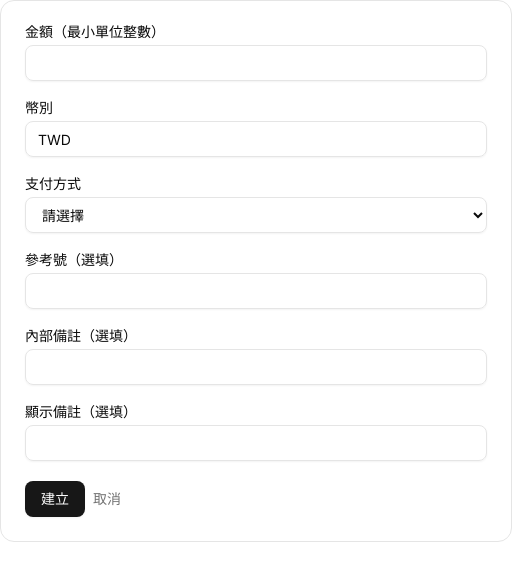
Scenario: CreateDepositForm › should show a validation error and NOT submit when amount is missing
Select "信用卡" in the dropdown labelled "支付方式" at (256, 215), box [25,197,487,233]
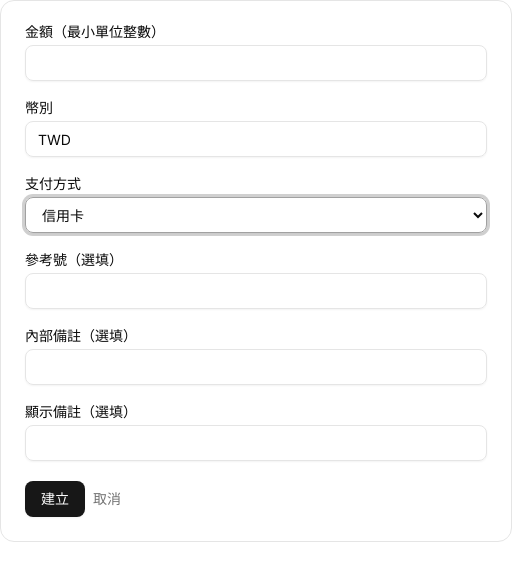
Click the button "建立".
click(55, 499)  # box [25,481,85,517]
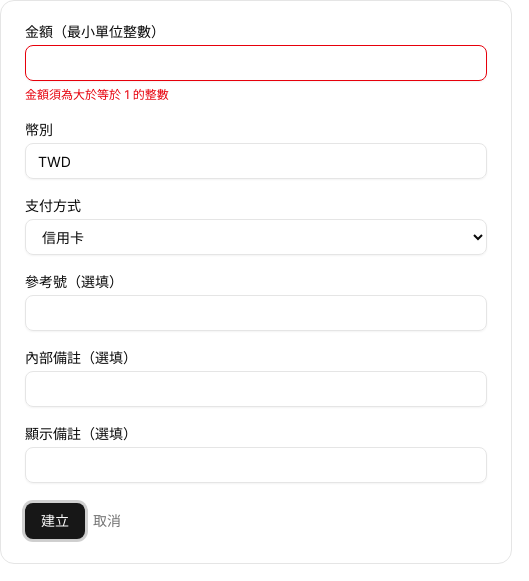
Now the text "金額須為大於等於 1 的整數" is shown, box [25,87,169,102]
